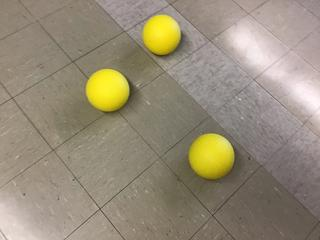power_cell: (188, 129, 236, 181), (85, 68, 131, 114), (142, 13, 180, 57)
